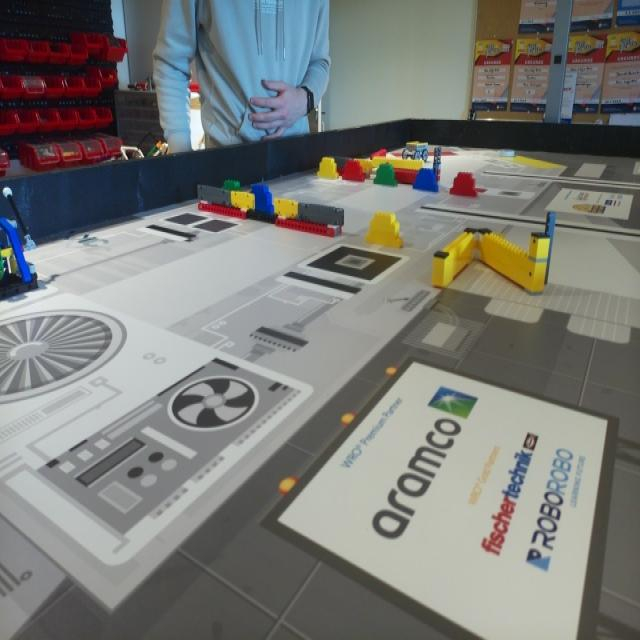blau: (252, 185, 274, 212), (414, 171, 438, 190)
gruen: (375, 164, 397, 188), (223, 177, 237, 190)
rot: (452, 172, 478, 200), (344, 161, 364, 182)
yellow: (366, 212, 404, 248), (320, 155, 338, 181)
